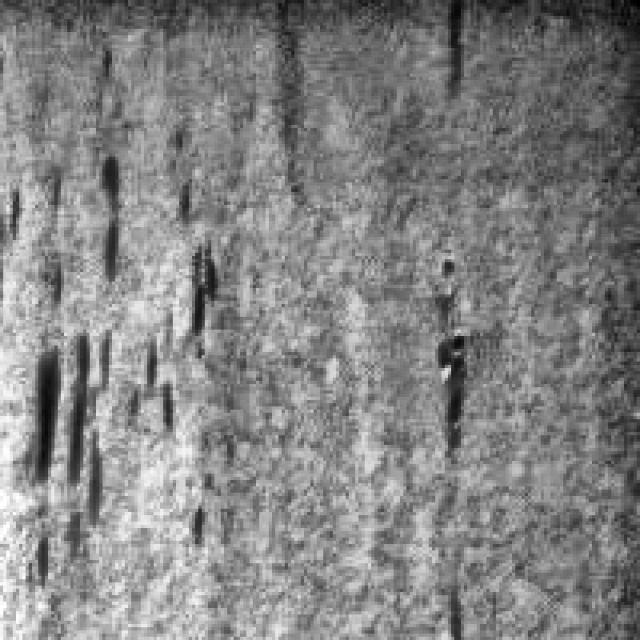Patches: (16, 320, 115, 528), (422, 307, 483, 480), (84, 134, 138, 298), (426, 0, 474, 106)
